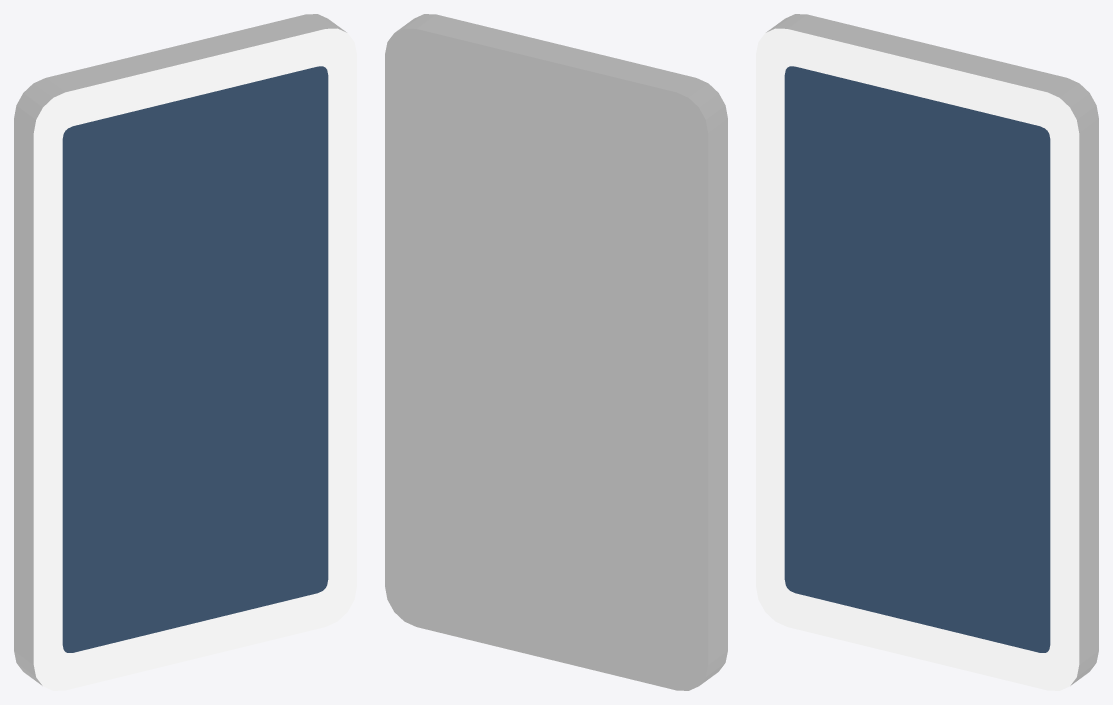
Rendered from phoneIso.glb.
3 views of the same model, side by side, from view 1: azimuth 30°, elevation 25°; view 2: azimuth 150°, elevation 25°; view 3: azimuth 330°, elevation 25° (orthographic).
Parts seen in each view (by area): view 1: Cube; view 2: Cube; view 3: Cube.
Part boxes in pixels (x1,y1,x2,y2): Cube: [14, 14, 356, 690]; Cube: [385, 14, 727, 690]; Cube: [756, 14, 1098, 690].
Size of the model in its own units: 0.6406 by 1.13 by 0.068.
